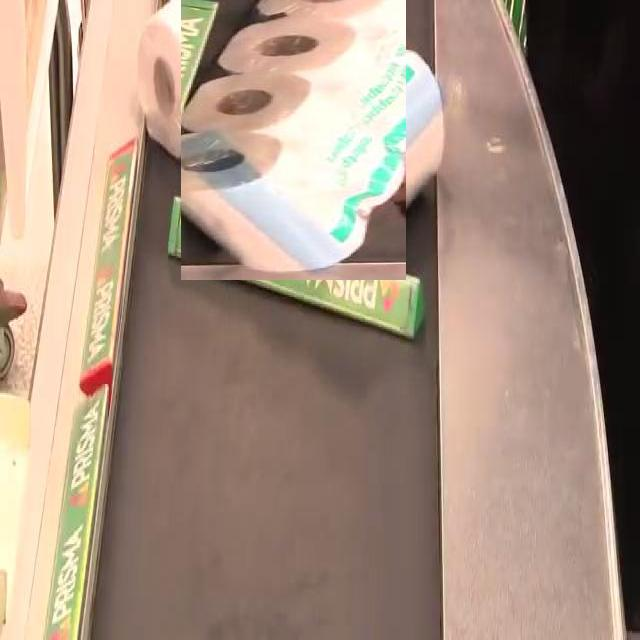utility-box: (157, 0, 428, 257)
